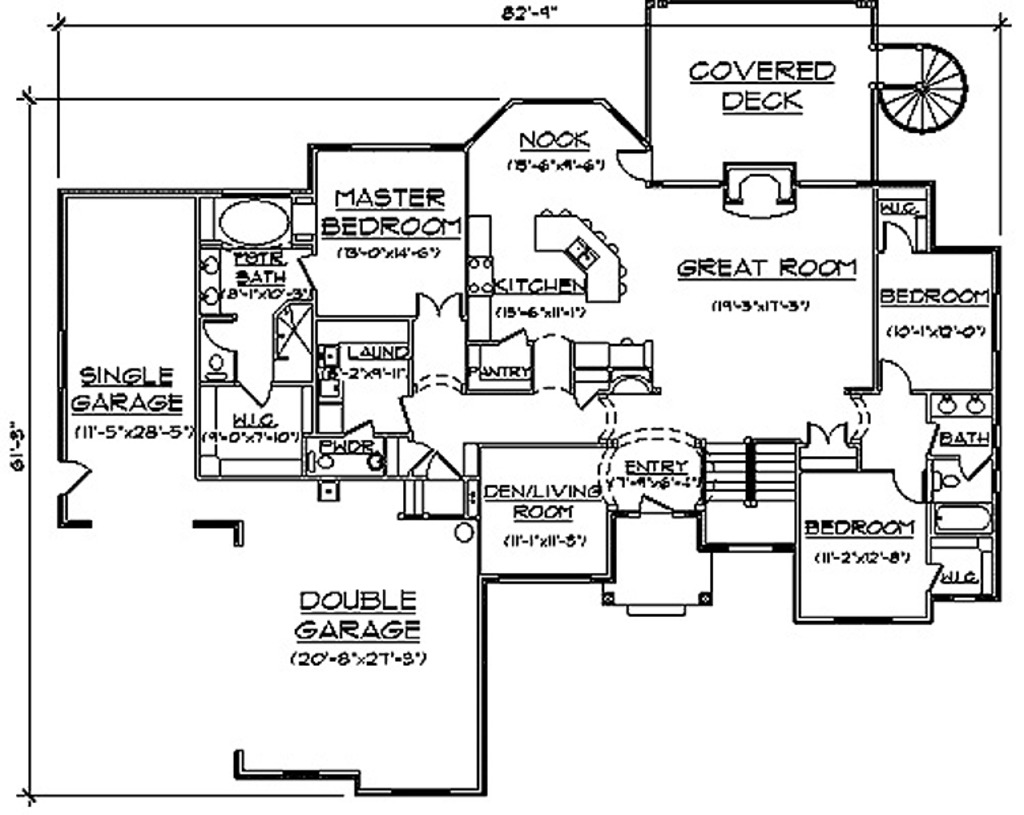door: (796, 424, 854, 467), (864, 346, 918, 392), (609, 146, 658, 192), (409, 288, 469, 324), (52, 449, 95, 496), (880, 215, 925, 258), (192, 321, 247, 356), (388, 388, 423, 435), (234, 379, 281, 412), (482, 322, 535, 346), (293, 253, 326, 291), (401, 441, 435, 475), (893, 470, 925, 506), (568, 384, 607, 412), (423, 450, 462, 477), (955, 454, 991, 481), (924, 419, 942, 451)
kitchen_bar: (519, 198, 654, 322)
large_sink: (192, 356, 231, 387), (309, 444, 342, 477), (931, 467, 963, 494)
small_sink: (923, 386, 993, 420), (200, 240, 221, 317), (361, 446, 397, 479)
stairs: (695, 435, 790, 540)
tub: (205, 192, 297, 253), (926, 511, 999, 534)
twin_sink: (563, 235, 616, 282)
